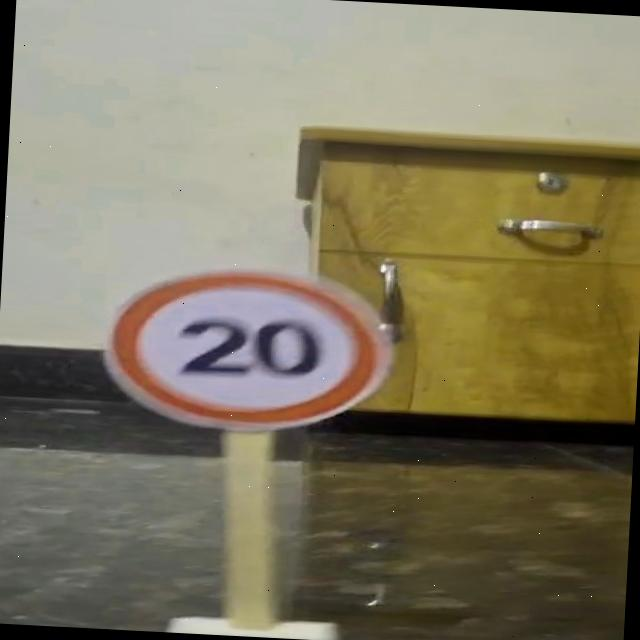Speed20: (82, 247, 402, 446)
